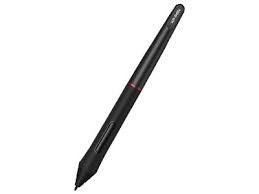qillqana: (73, 2, 184, 190)
